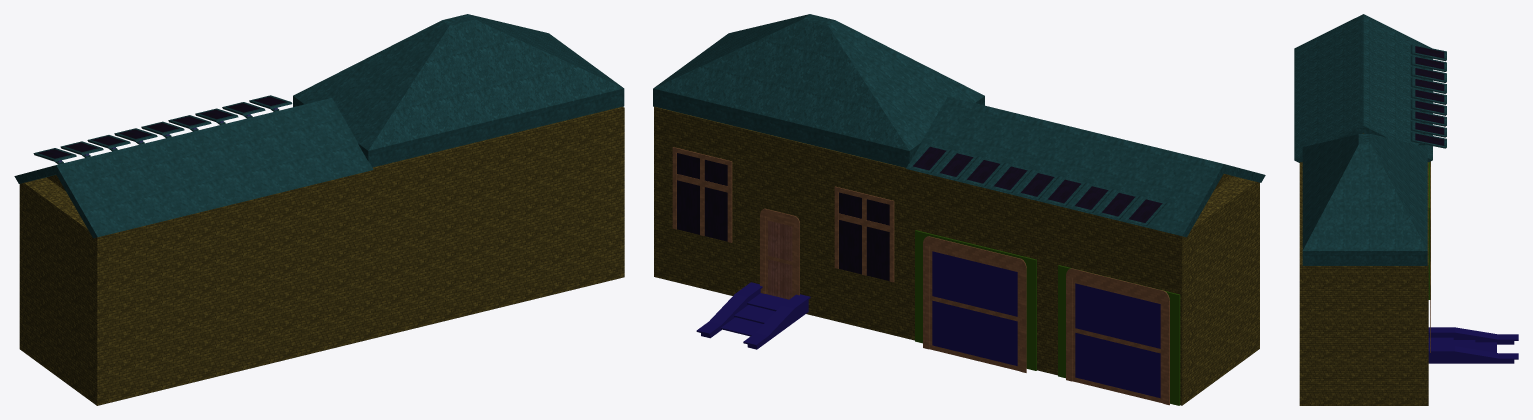
The model's file is Medium_Expensive_house_2.glb.
The picture shows the model from 3 angles, left to right: view 1: azimuth 30°, elevation 25°; view 2: azimuth 150°, elevation 25°; view 3: azimuth 270°, elevation 25°; orthographic projection. The views are drawn at different scales.
Parts seen in each view (by area): view 1: mergedBlocks(Clone); view 2: mergedBlocks(Clone); view 3: mergedBlocks(Clone).
Part boxes in pixels (x1,y1,x2,y2): mergedBlocks(Clone): [14, 14, 624, 405]; mergedBlocks(Clone): [653, 14, 1265, 405]; mergedBlocks(Clone): [1294, 14, 1518, 405].
Bounding box in the file's own units: 19.72 × 9.34 × 8.69.
8 materials, 5 textured.
